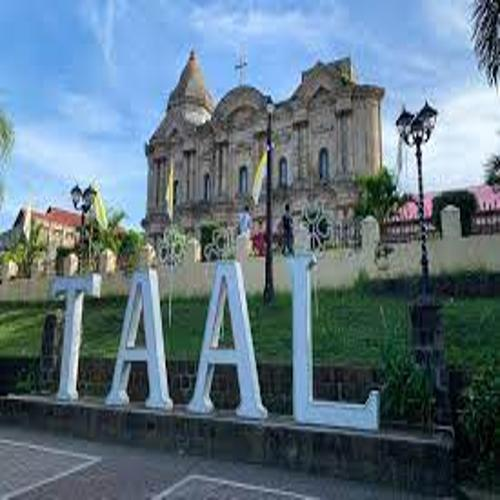Taal Basilica Church: (135, 35, 395, 252)
